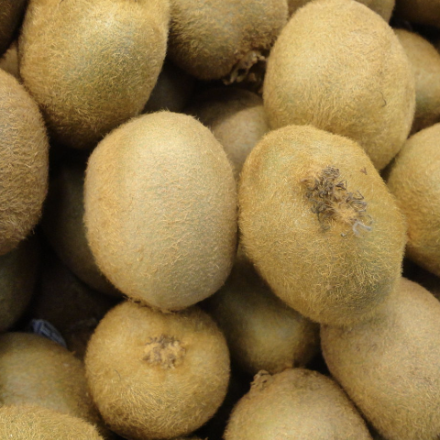kiwi: (66, 110, 257, 329), (227, 113, 410, 338), (257, 0, 422, 171), (80, 283, 233, 440)
